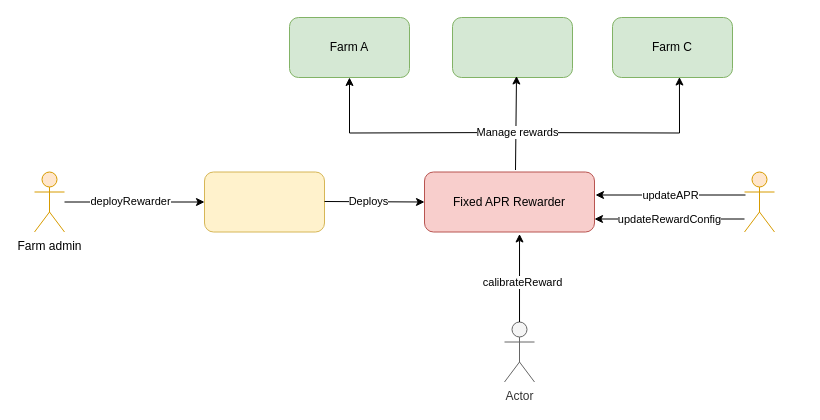
Some shapes in this 820 by 420 pixel diagram are drawn without their labels. The shapes that lost their labels are listed below. From the top down, each one's centre as x and y in pixels, then its label:
point 512,47: Farm B
point 264,201: RewarderFactory
point 759,201: Rewarder admin
